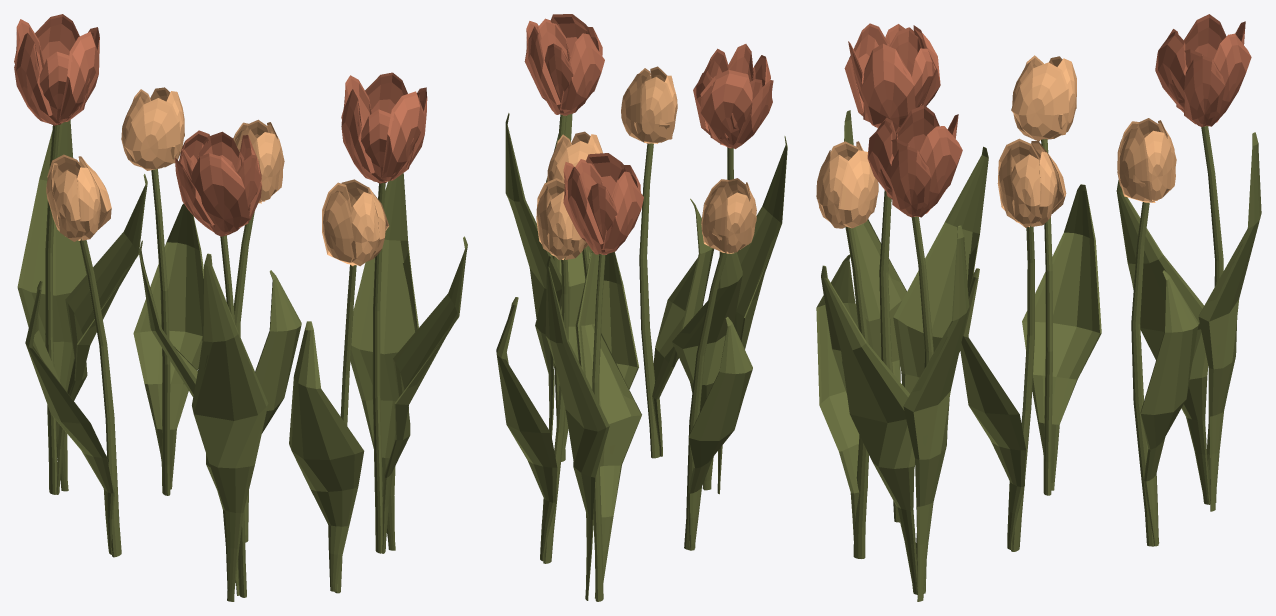
Rendered from Tulip 2.fbx.
3 renders of one model, left to right at view 1: azimuth 30°, elevation 25°; view 2: azimuth 150°, elevation 25°; view 3: azimuth 270°, elevation 25°, orthographic. The views are drawn at different scales.
Parts seen in each view (by area): view 1: Tulip_Leaf, Tulip_Flower_Red, Tulip_Flower_Pink, Tulip_Stem; view 2: Tulip_Leaf, Tulip_Flower_Red, Tulip_Flower_Pink, Tulip_Stem; view 3: Tulip_Leaf, Tulip_Flower_Red, Tulip_Flower_Pink, Tulip_Stem.
Boxes of the visible parts, left/top/right/bottom form: Tulip_Leaf: left=17, top=120, right=467, bottom=601; Tulip_Flower_Red: left=14, top=14, right=427, bottom=236; Tulip_Flower_Pink: left=46, top=87, right=389, bottom=266; Tulip_Stem: left=45, top=125, right=385, bottom=597; Tulip_Leaf: left=496, top=113, right=787, bottom=600; Tulip_Flower_Red: left=524, top=14, right=773, bottom=254; Tulip_Flower_Pink: left=536, top=66, right=756, bottom=260; Tulip_Stem: left=543, top=114, right=733, bottom=601; Tulip_Leaf: left=816, top=110, right=1261, bottom=601; Tulip_Flower_Red: left=844, top=14, right=1251, bottom=217; Tulip_Flower_Pink: left=816, top=55, right=1176, bottom=228; Tulip_Stem: left=845, top=126, right=1223, bottom=593.
Size of the model in its own units: 67.44 by 93.83 by 78.79.
